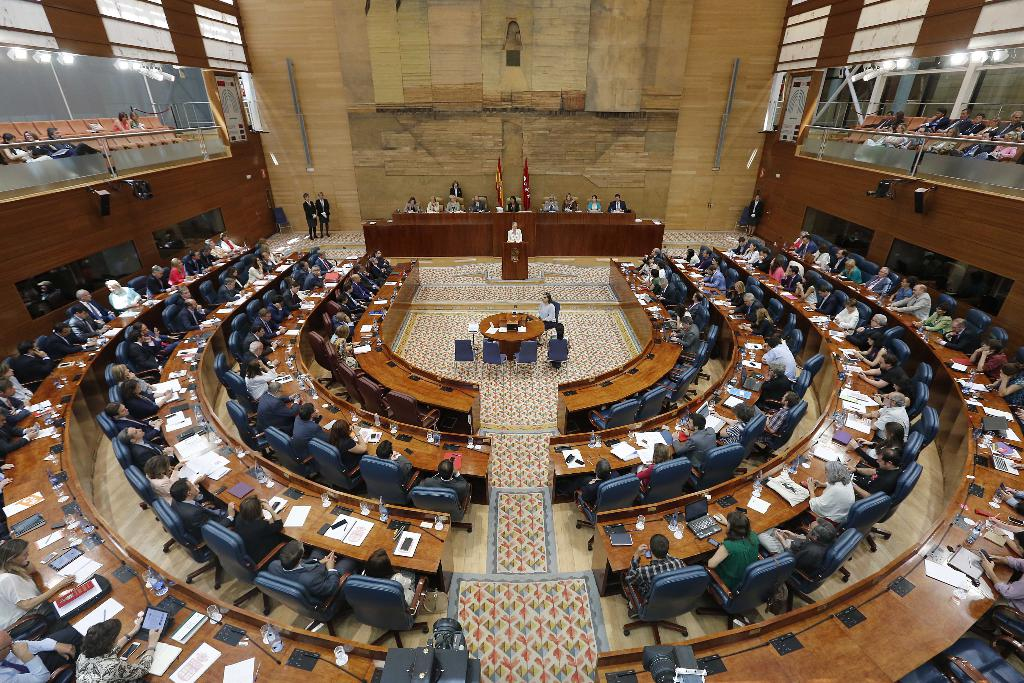Person: (0, 107, 1024, 683), (626, 532, 686, 620), (537, 291, 555, 346)
